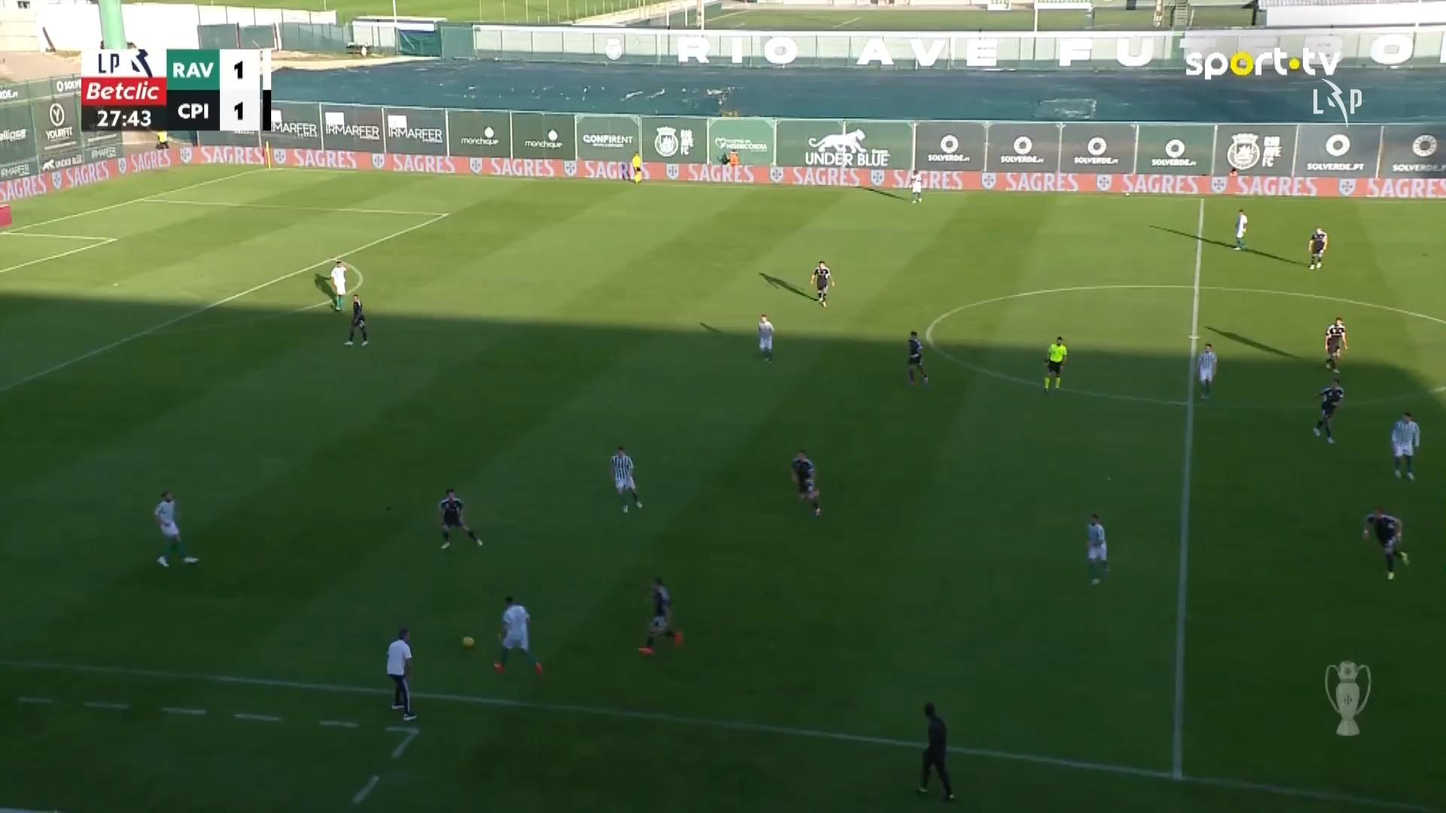ball: (462, 636, 474, 649)
player: (493, 595, 542, 675), (153, 489, 199, 567), (638, 576, 683, 655), (1362, 506, 1409, 580), (438, 488, 483, 550), (609, 445, 642, 513), (790, 449, 822, 517), (1312, 377, 1344, 443), (1390, 410, 1420, 480), (1085, 513, 1109, 584), (1322, 315, 1348, 374), (343, 294, 368, 346), (1195, 341, 1216, 400), (809, 259, 834, 307), (906, 330, 928, 384), (329, 259, 347, 312), (756, 313, 774, 362), (1307, 227, 1327, 269), (1233, 208, 1247, 250), (908, 169, 923, 204)
referee: (914, 701, 955, 800), (386, 626, 417, 721), (1042, 335, 1067, 392), (630, 151, 643, 183)
